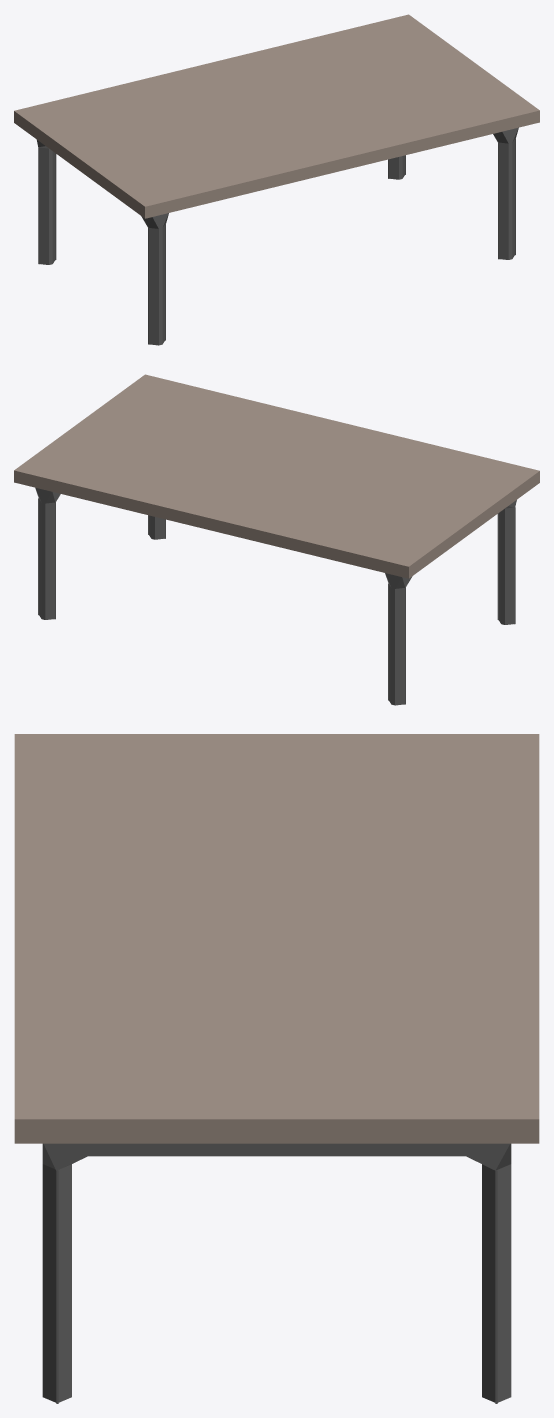
File: TablePlot.fbx
The picture shows the model from 3 angles, top to bottom: view 1: azimuth 30°, elevation 25°; view 2: azimuth 150°, elevation 25°; view 3: azimuth 270°, elevation 25°; orthographic projection. The views are drawn at different scales.
Parts seen in each view (by area): view 1: Cube; view 2: Cube; view 3: Cube.
Part boxes in pixels (left/top/right/bottom): Cube: left=14, top=14, right=539, bottom=345; Cube: left=14, top=374, right=539, bottom=705; Cube: left=14, top=734, right=539, bottom=1403.
Bounding box in the file's own units: 214 × 77.56 × 123.
